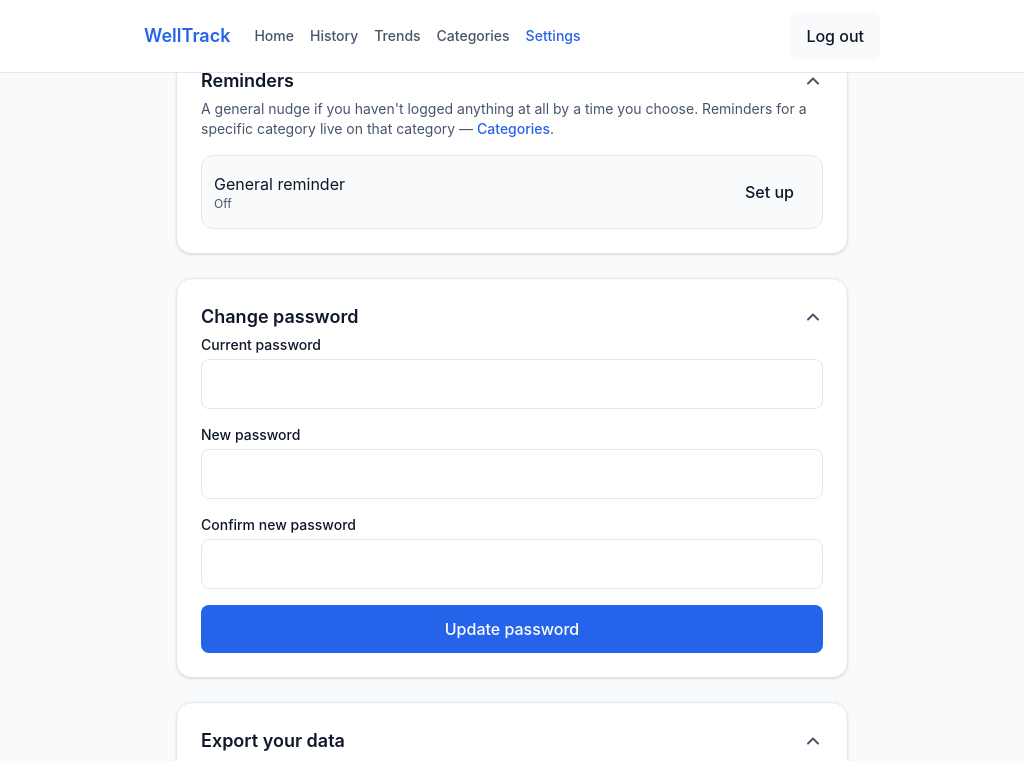
Test: SettingsPage — change password › shows a friendly error when the current password is wrong
(page scrolled)
Type "WrongPassword1" into the password field labelled "Current password".
click(512, 384); type("WrongPassword1")  # box [201,359,823,409]
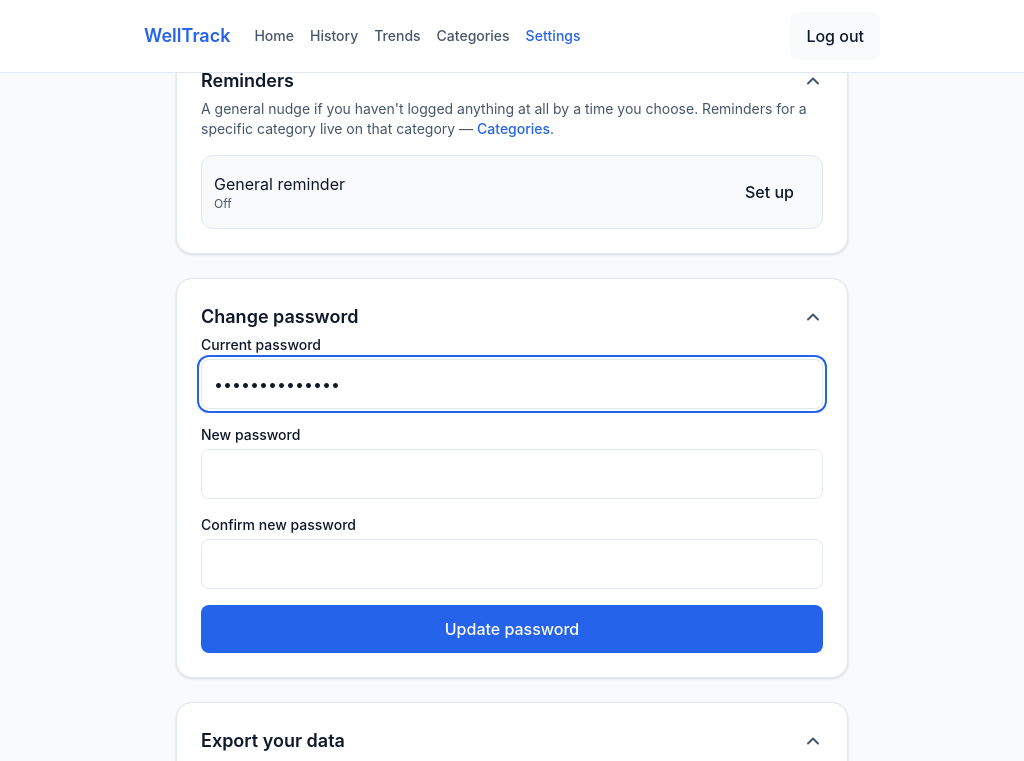
Type "NewPass1234" into the password field labelled "New password".
click(512, 474); type("NewPass1234")  # box [201,449,823,499]
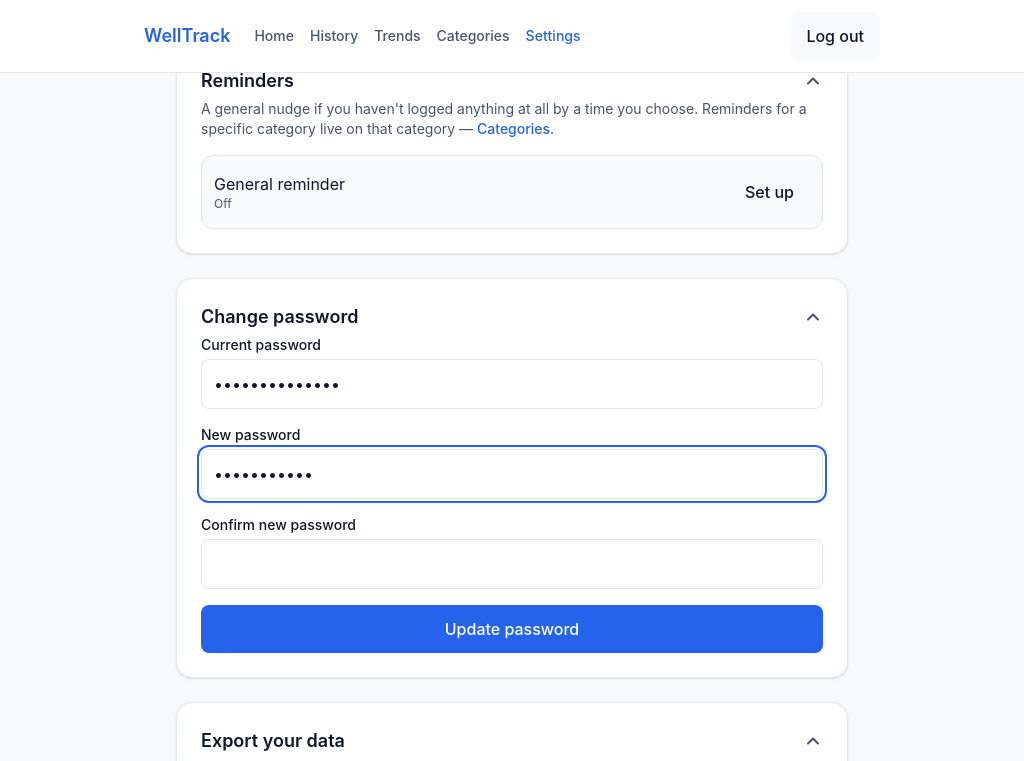
Type "NewPass1234" into the password field labelled "Confirm new password".
click(512, 564); type("NewPass1234")  # box [201,539,823,589]
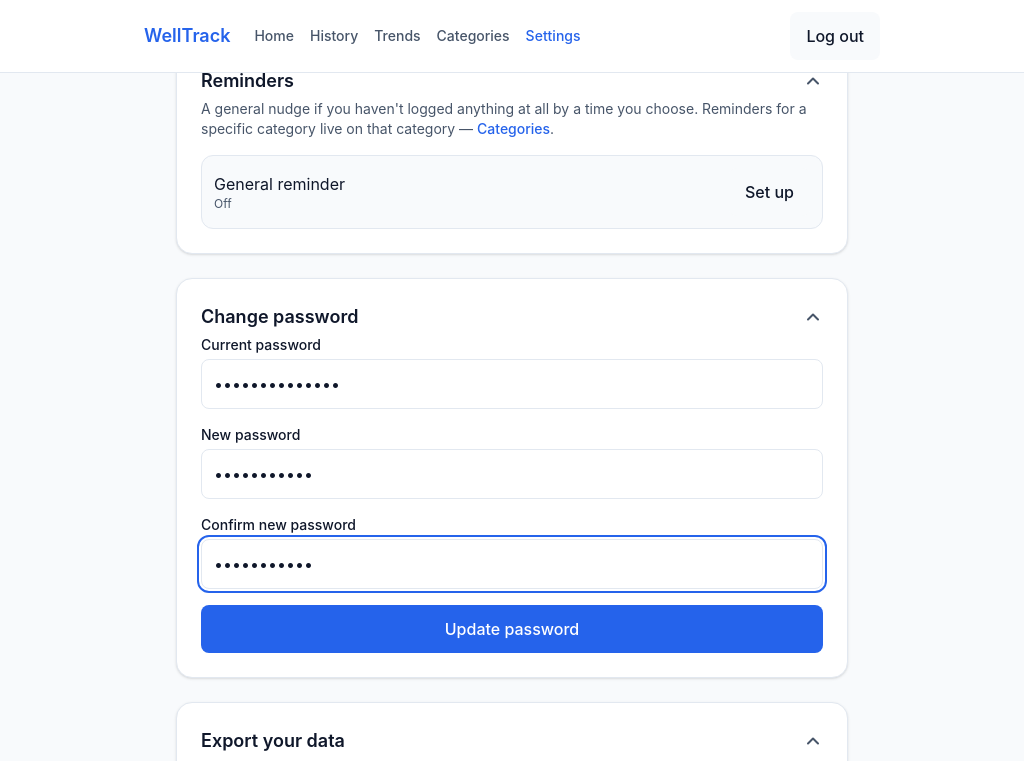
Click the button "Update password".
click(512, 629)  # box [201,605,823,653]
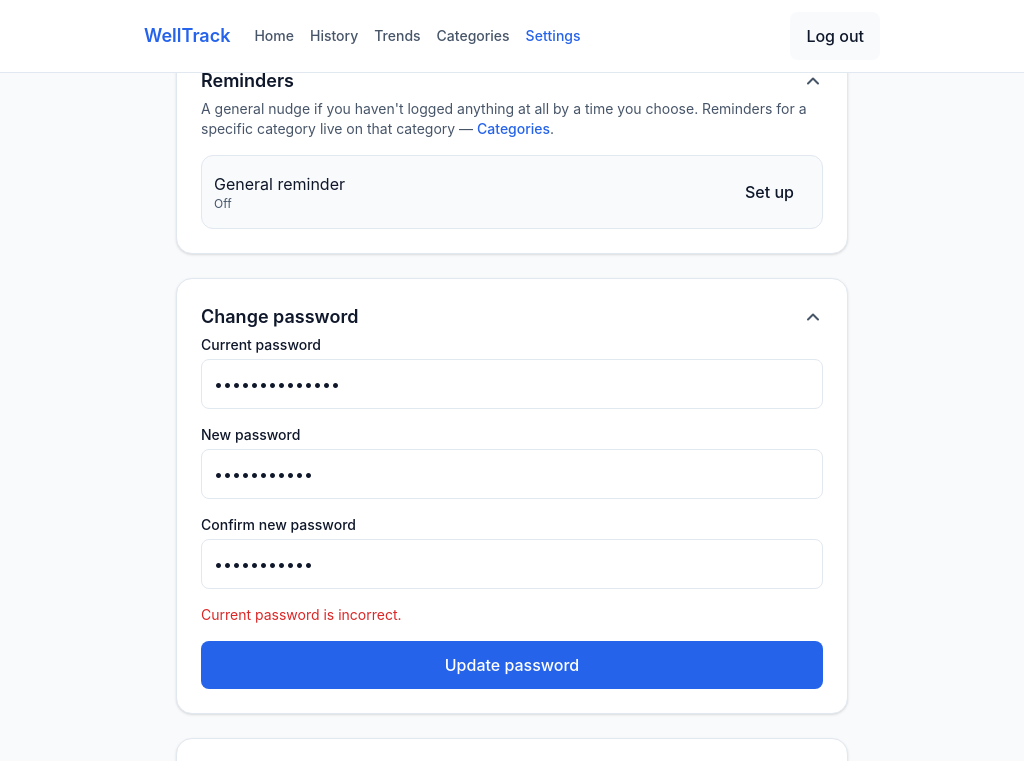
Check: the text "Current password is incorrect." is shown, box [201,606,402,623]
